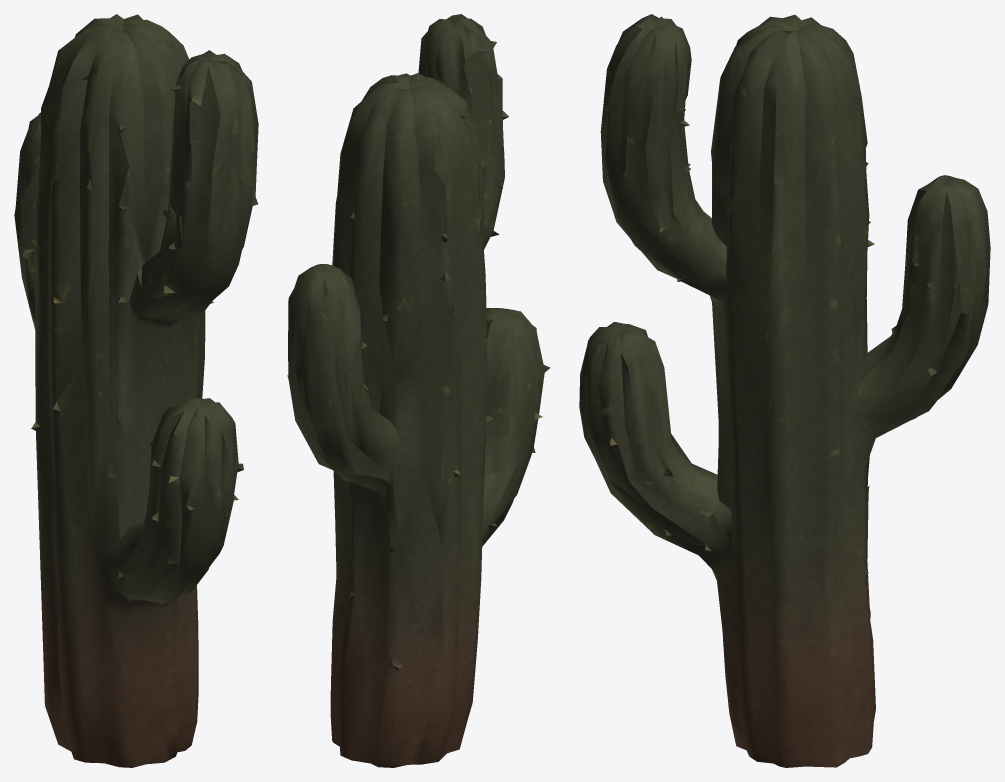
The picture shows the model from 3 angles, left to right: view 1: azimuth 30°, elevation 25°; view 2: azimuth 150°, elevation 25°; view 3: azimuth 270°, elevation 25°; orthographic projection. The views are drawn at different scales.
Visible parts, largest first — view 1: desert-cactus.002; view 2: desert-cactus.002; view 3: desert-cactus.002.
Part boxes in pixels (bbox=[...]): desert-cactus.002: bbox=[14, 14, 258, 767]; desert-cactus.002: bbox=[287, 14, 550, 767]; desert-cactus.002: bbox=[579, 14, 990, 767].
Size of the model in its own units: 0.5248 by 2.4 by 1.23.
1 material, 1 textured.
